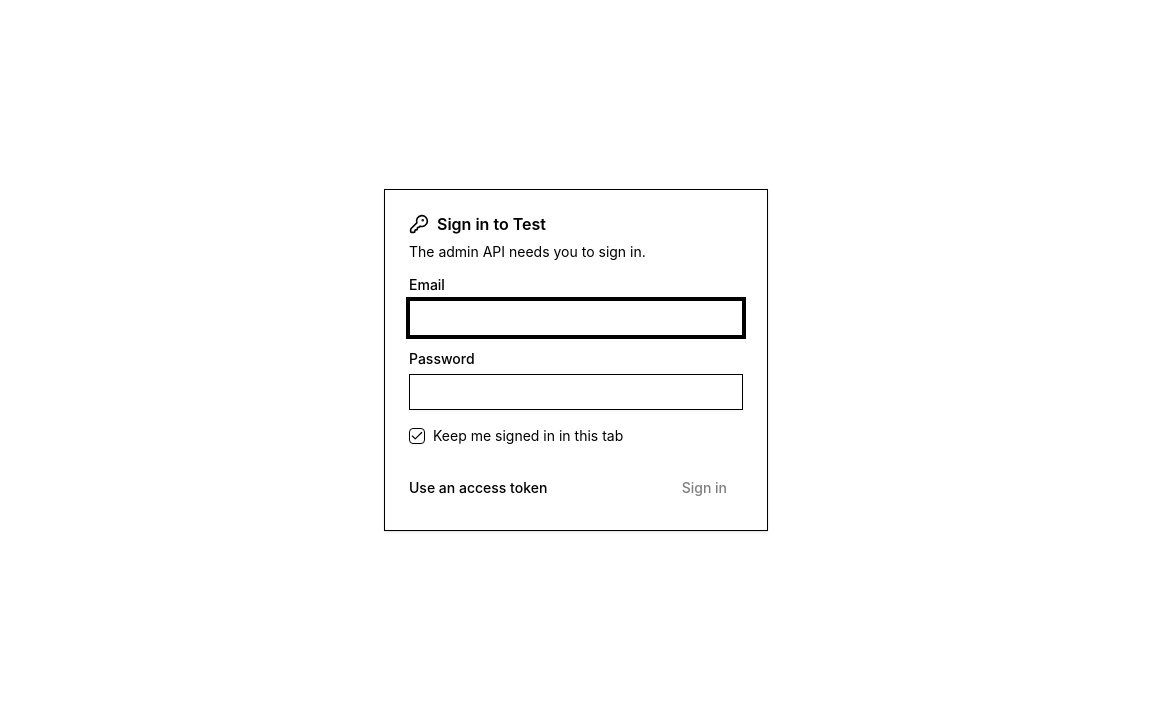
Test: a session from the login route › stops refreshing once the viewer signs out
Type "bea@library.test" into the field labelled "Email".
click(576, 318); type("bea@library.test")  # box [409, 300, 743, 336]
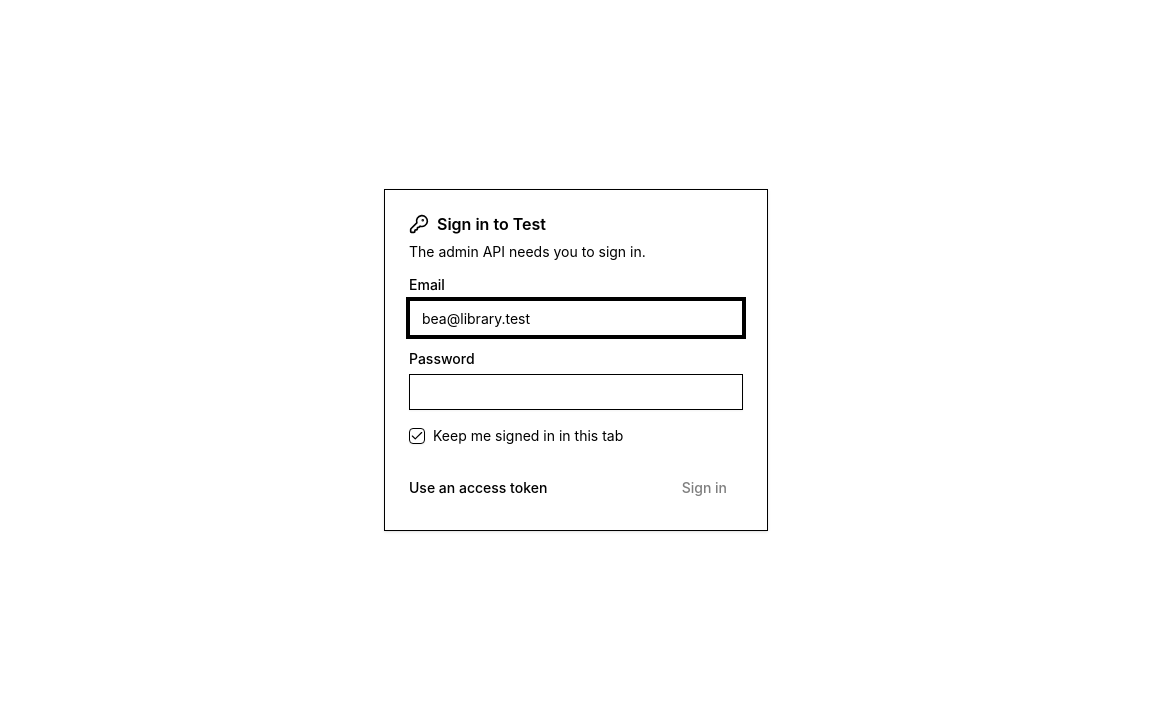
Type "right" into the password field labelled "Password".
click(576, 392); type("right")  # box [409, 374, 743, 410]
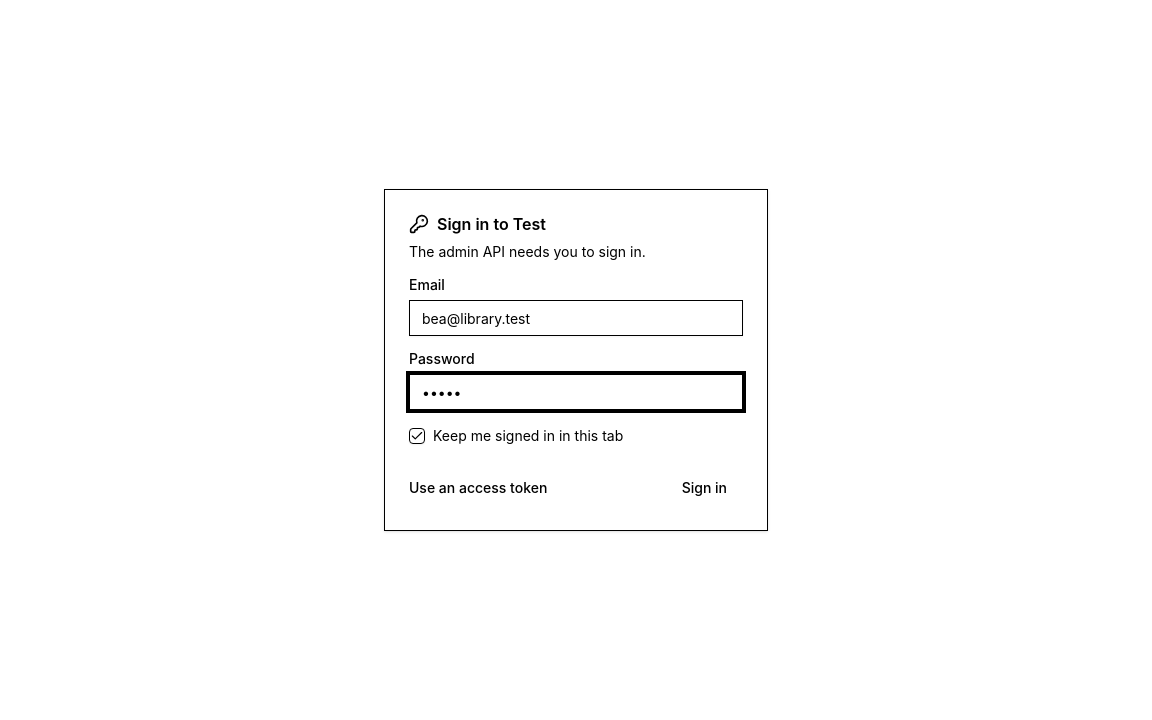
Click the button "Sign in".
click(704, 488)  # box [666, 470, 743, 506]
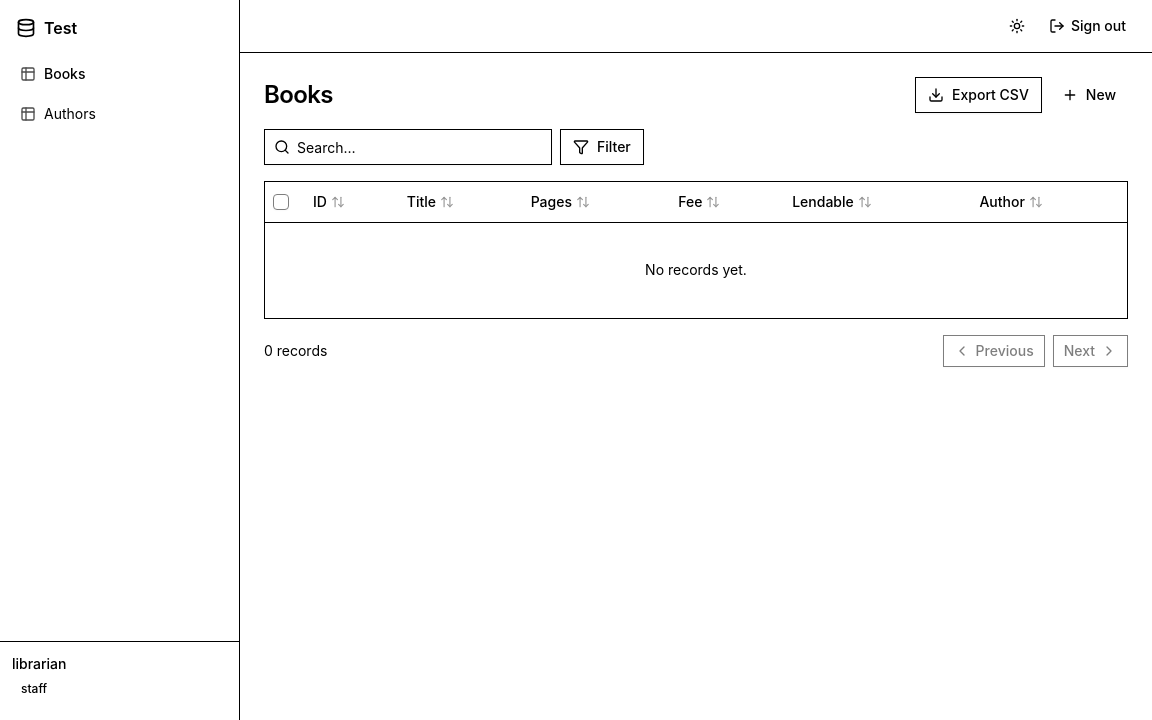
Now the text "No records yet." is shown, box [265, 222, 1127, 318]
Click the button "Sign out".
click(1088, 26)  # box [1039, 10, 1136, 42]
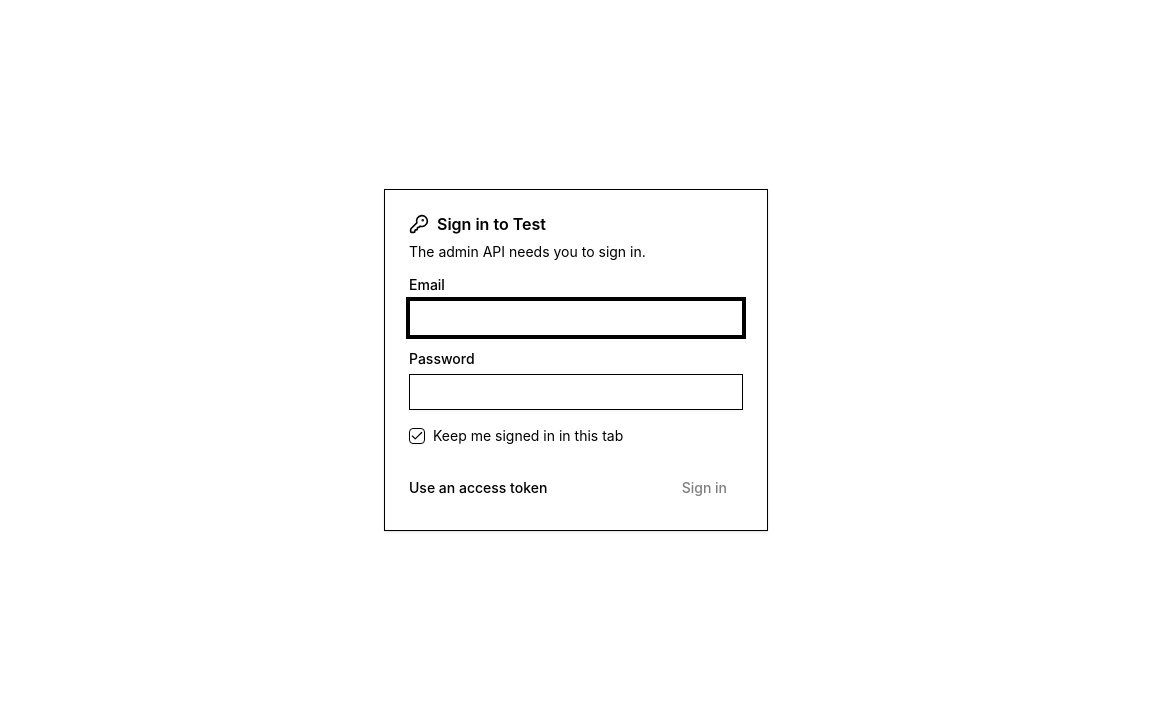
Now the text "The admin API needs you to sign in." is shown, box [409, 243, 646, 260]
